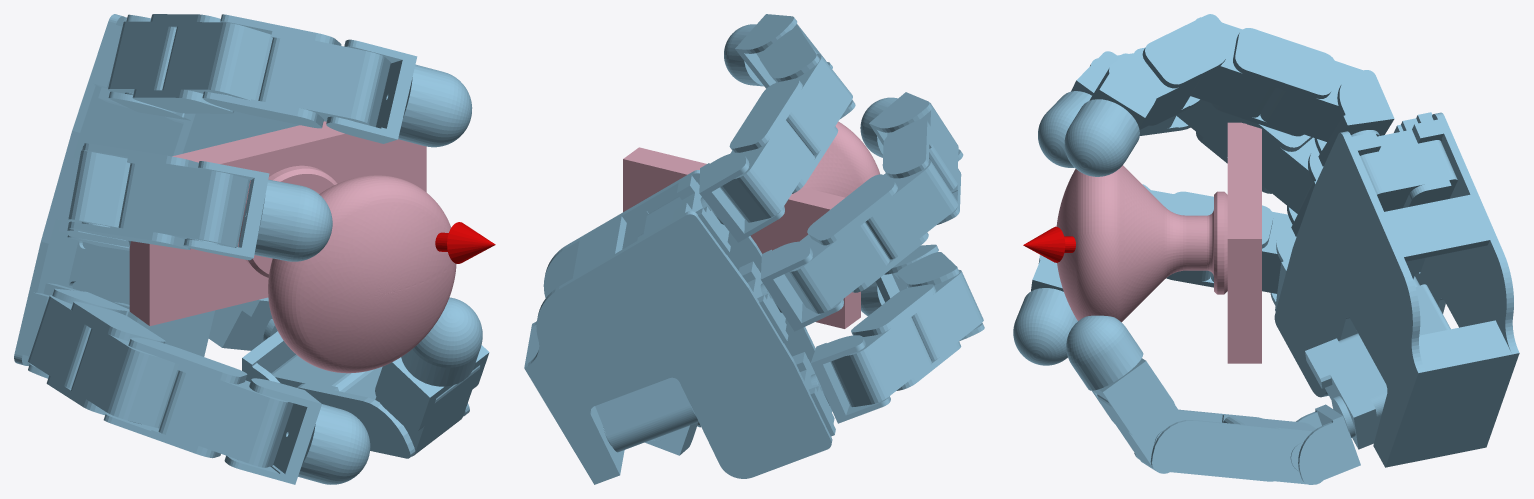
The picture shows the model from 3 angles, left to right: view 1: azimuth 30°, elevation 25°; view 2: azimuth 150°, elevation 25°; view 3: azimuth 270°, elevation 25°; orthographic projection. The views are drawn at different scales.
Parts seen in each view (by area): view 1: world, door_knob.stl; view 2: world, door_knob.stl; view 3: world, door_knob.stl.
Part boxes in pixels (<box>): world: <box>14,14,495,484</box>; door_knob.stl: <box>129,121,456,373</box>; world: <box>524,14,984,484</box>; door_knob.stl: <box>623,121,879,328</box>; world: <box>1013,14,1519,484</box>; door_knob.stl: <box>1056,122,1261,363</box>.
Bounding box in the file's own units: 0.1447 × 0.1657 × 0.184.
